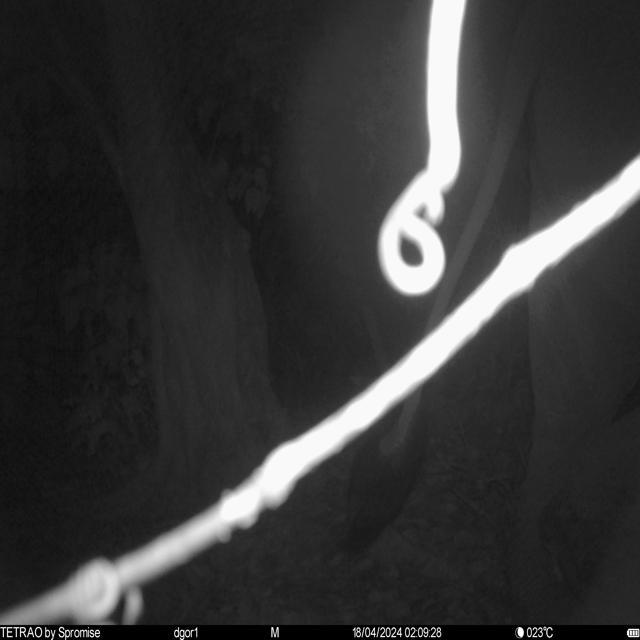elephant: (346, 0, 640, 626)
